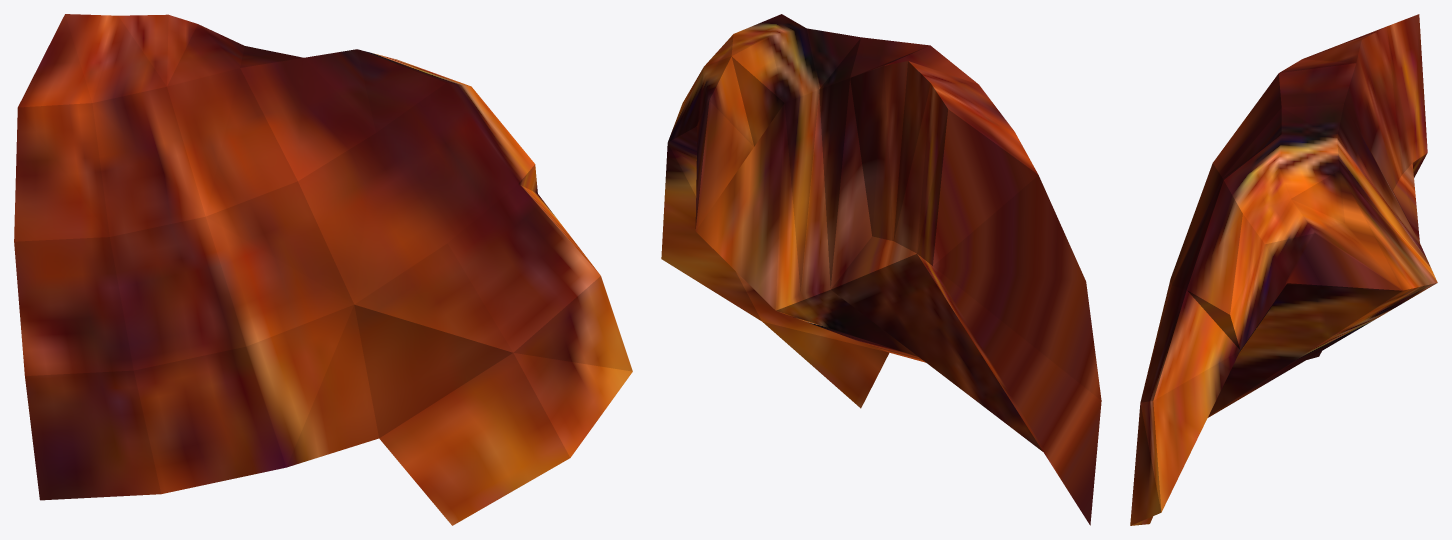
File: ResultEarth3.obj
3 views of the same model, side by side, from view 1: azimuth 30°, elevation 25°; view 2: azimuth 150°, elevation 25°; view 3: azimuth 270°, elevation 25° (orthographic). The views are drawn at different scales.
Visible parts, largest first — view 1: 球.002; view 2: 球.002; view 3: 球.002.
Part boxes in pixels (bbox=[...]): 球.002: bbox=[14, 14, 632, 525]; 球.002: bbox=[661, 14, 1101, 525]; 球.002: bbox=[1130, 14, 1437, 525].
Bounding box in the file's own units: 0.8378 × 0.7185 × 0.4853.
1 material, 1 textured.
